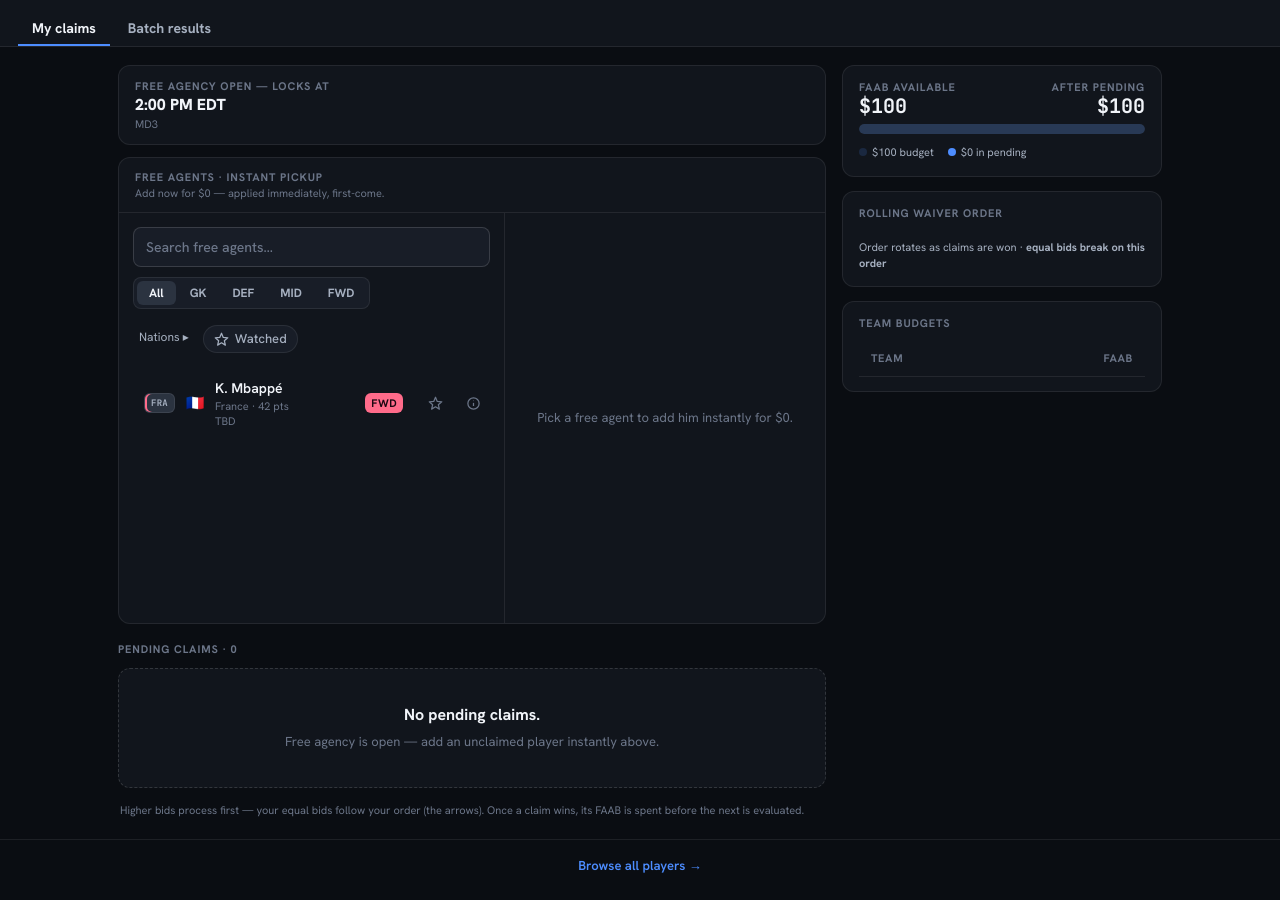
Test: waivers — period concept confined to Batch results (T11 Fix B) › labels each settled batch with its matchday in the Batch results tab
Click the tab "Batch results" at x=169, y=29, box [114, 12, 225, 46]
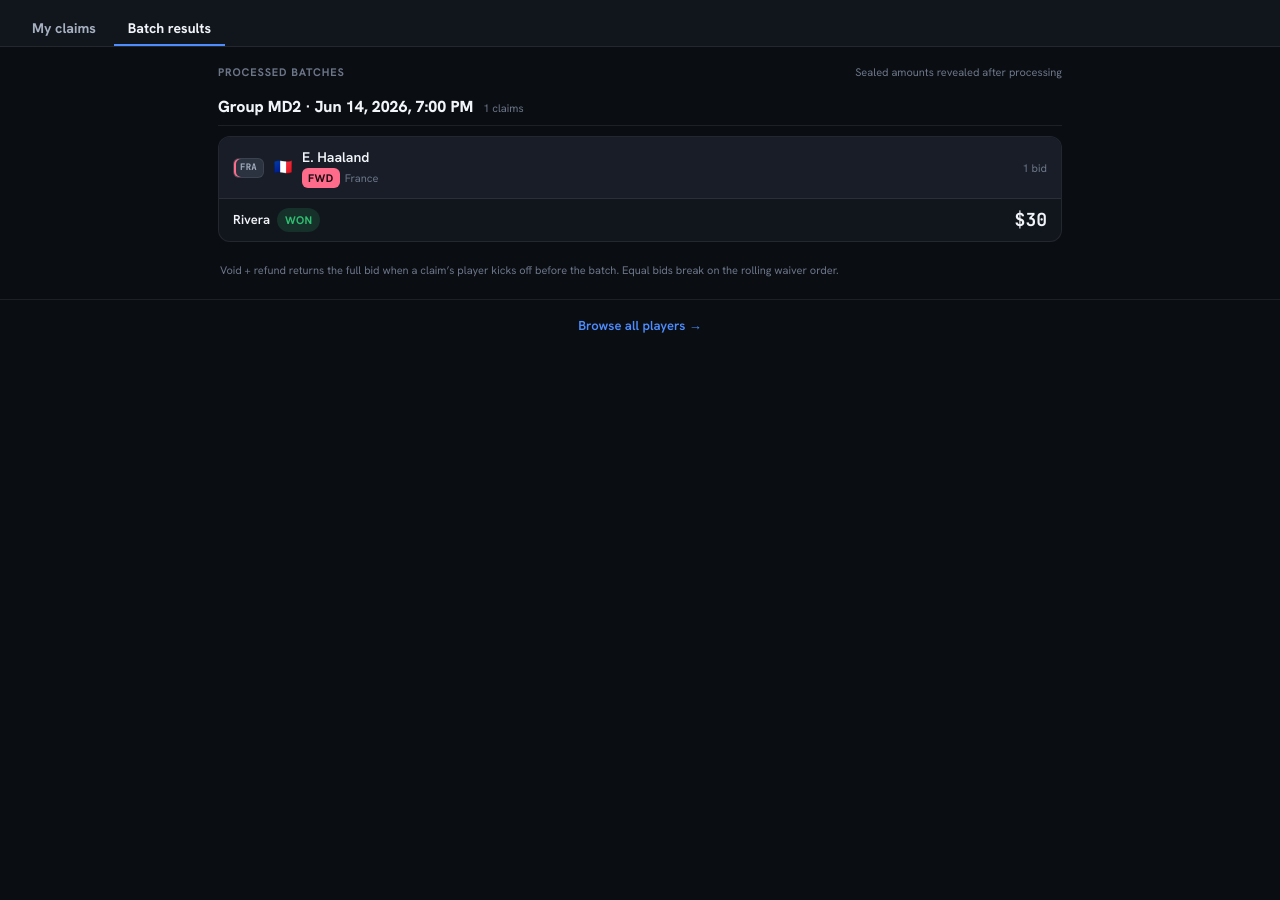
Expected: the text "Group MD2 · Jun 14, 2026, 7:00 PM" is shown, [218, 97, 473, 117]
